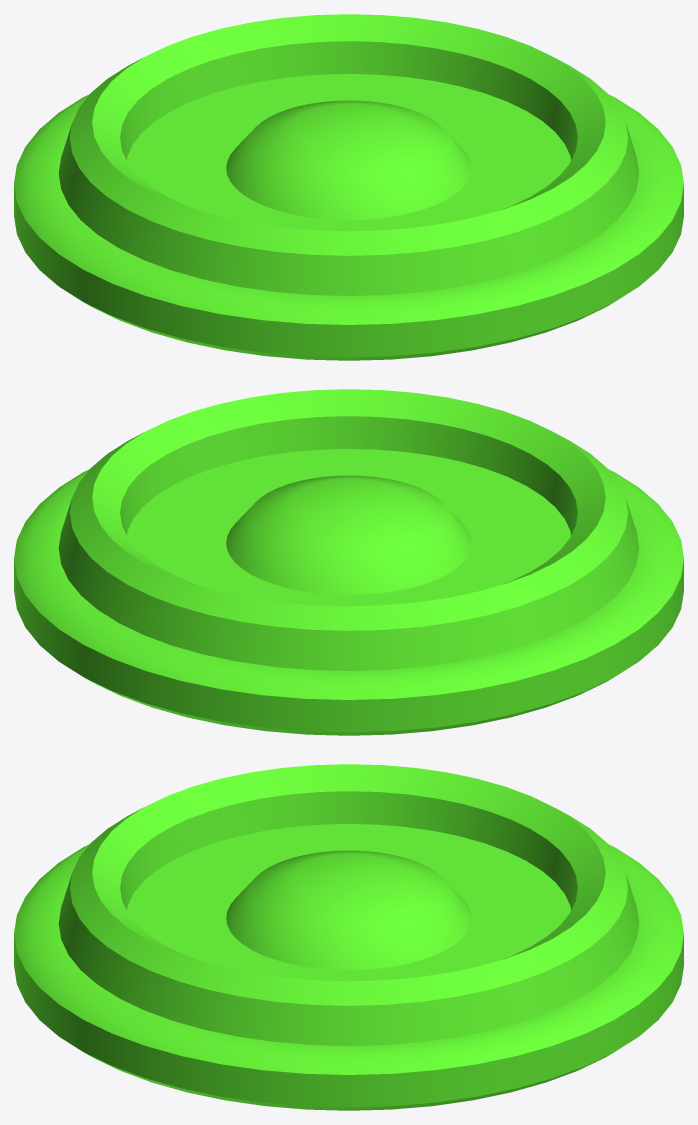
The model's file is SpawnPad.fbx.
The picture shows the model from 3 angles, top to bottom: view 1: azimuth 30°, elevation 25°; view 2: azimuth 150°, elevation 25°; view 3: azimuth 270°, elevation 25°; orthographic projection.
Parts seen in each view (by area): view 1: SpawnPad; view 2: SpawnPad; view 3: SpawnPad.
Boxes of the visible parts, bbox=[...] form: SpawnPad: bbox=[14, 14, 683, 360]; SpawnPad: bbox=[14, 389, 683, 735]; SpawnPad: bbox=[14, 764, 683, 1110].
Size of the model in its own units: 6 by 1 by 6.
